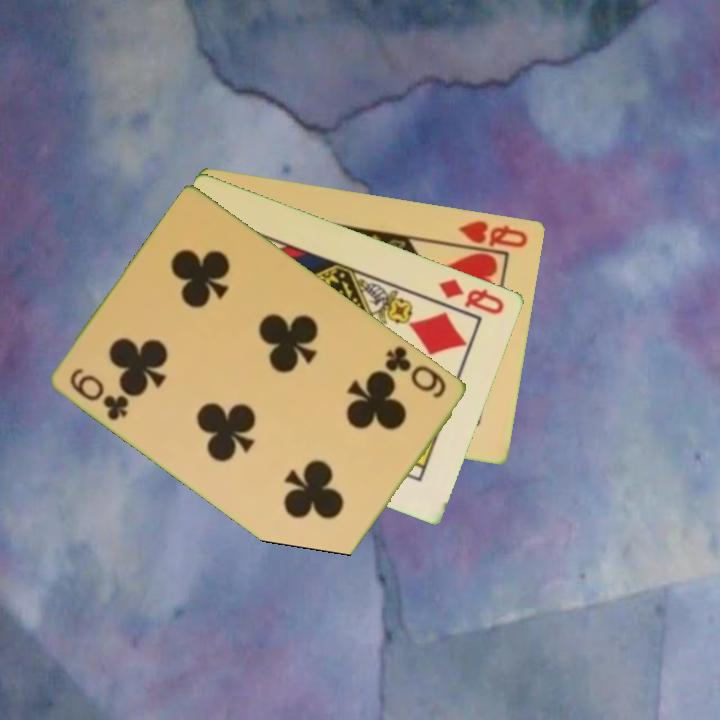6c: (381, 342, 450, 401), (66, 364, 133, 424)
Qd: (435, 275, 508, 318)
Qh: (455, 216, 531, 250)
